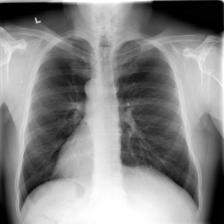normal: (12, 30, 206, 219)
